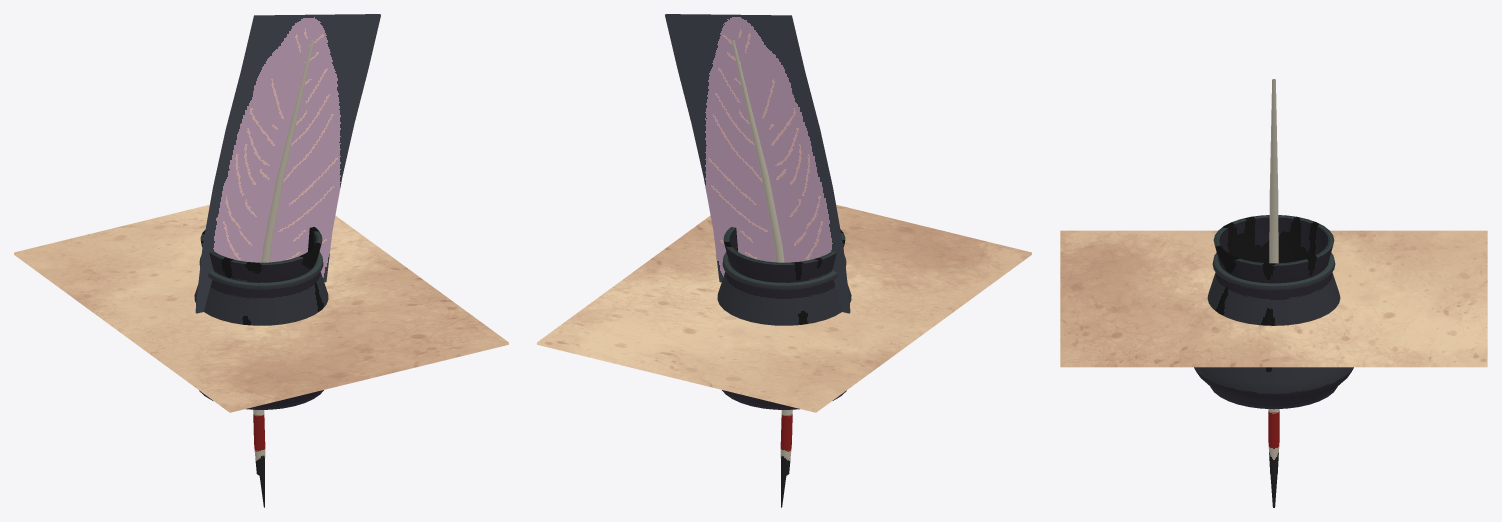
File: inkAndQuill.glb
3 views of the same model, side by side, from view 1: azimuth 30°, elevation 25°; view 2: azimuth 150°, elevation 25°; view 3: azimuth 270°, elevation 25° (orthographic).
Parts seen in each view (by area): view 1: Paper, Quill, Ink; view 2: Paper, Quill, Ink; view 3: Paper, Ink, Quill.
Boxes of the visible parts, x1,y1,x2,y2 form: Paper: [14, 204, 508, 412]; Quill: [195, 14, 380, 507]; Ink: [194, 227, 328, 409]; Paper: [537, 204, 1031, 412]; Quill: [665, 14, 850, 507]; Ink: [717, 227, 851, 409]; Paper: [1060, 230, 1487, 367]; Ink: [1194, 215, 1353, 409]; Quill: [1268, 79, 1279, 507].
Size of the model in its own units: 0.1003 by 0.1698 by 0.1344.
3 materials, 3 textured.
